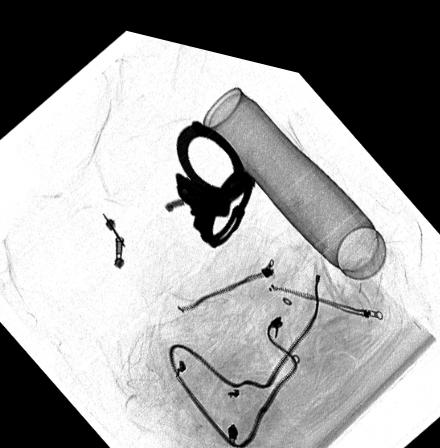HandCuffs: (173, 110, 257, 238)
